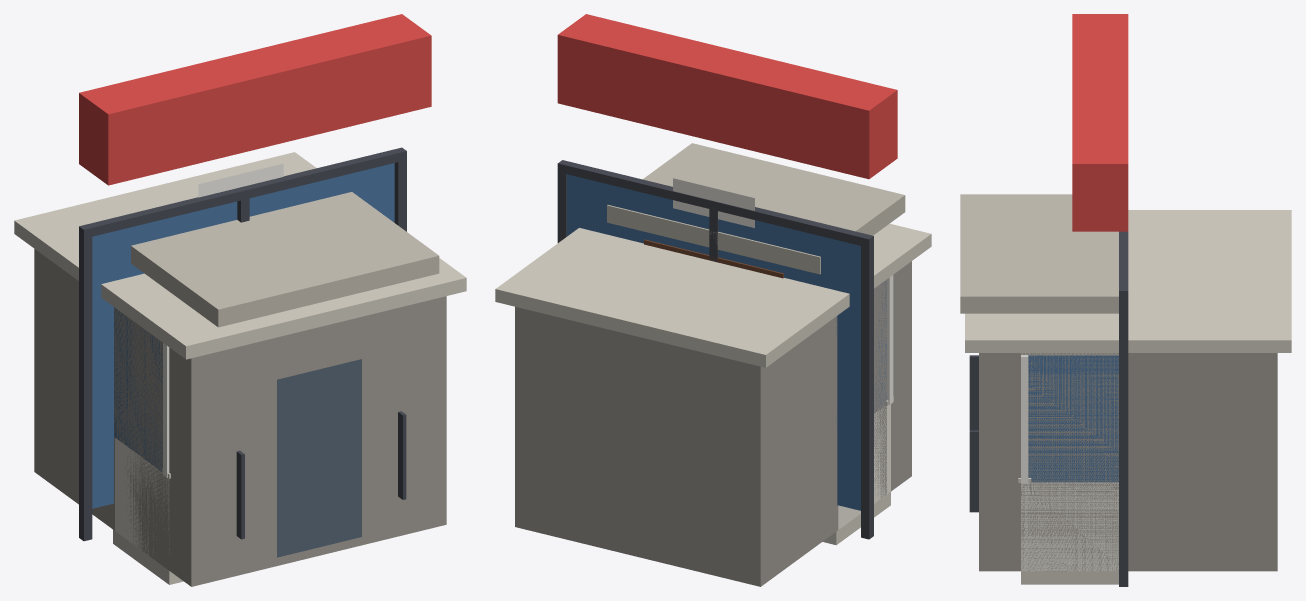
Rendered from details.glb.
3 renders of one model, left to right at view 1: azimuth 30°, elevation 25°; view 2: azimuth 150°, elevation 25°; view 3: azimuth 270°, elevation 25°, orthographic. The views are drawn at different scales.
Parts seen in each view (by area): view 1: roof_hut, shopfront, entrance, balcony_closed; view 2: roof_hut, shopfront, entrance, balcony_closed; view 3: roof_hut, balcony_closed, entrance, shopfront.
Boxes of the visible parts, bbox=[...] form: roof_hut: bbox=[14, 152, 466, 586]; shopfront: bbox=[79, 14, 431, 541]; entrance: bbox=[131, 163, 439, 539]; balcony_closed: bbox=[113, 307, 183, 584]; roof_hut: bbox=[495, 223, 931, 586]; shopfront: bbox=[557, 14, 897, 539]; entrance: bbox=[607, 143, 905, 278]; balcony_closed: bbox=[822, 275, 893, 545]; roof_hut: bbox=[965, 210, 1291, 571]; balcony_closed: bbox=[1018, 353, 1118, 584]; entrance: bbox=[960, 194, 1118, 512]; shopfront: bbox=[1072, 14, 1128, 586].
Bounding box in the file's own units: 3.8 × 5.4 × 3.55.
